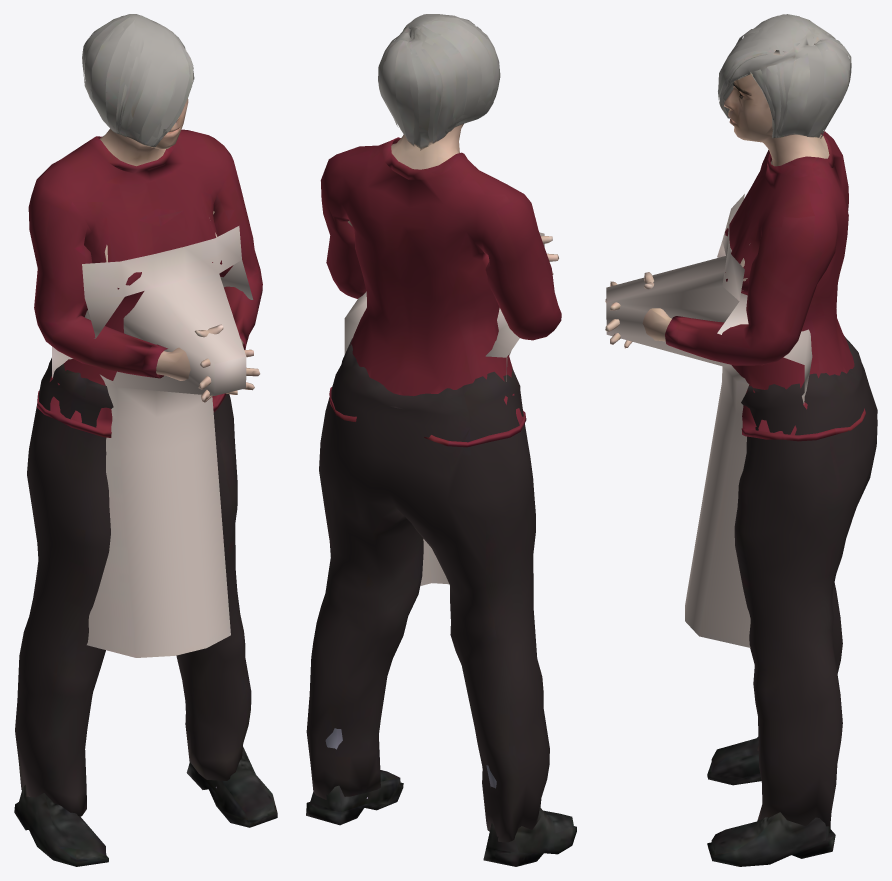
The model's file is mq-shopkeeper.glb.
3 renders of one model, left to right at view 1: azimuth 30°, elevation 25°; view 2: azimuth 150°, elevation 25°; view 3: azimuth 270°, elevation 25°, orthographic. The views are drawn at different scales.
Visible parts, largest first — view 1: MQ_shopkeeper; view 2: MQ_shopkeeper; view 3: MQ_shopkeeper.
Boxes of the visible parts, box(x1,y1,x2,y2) form: MQ_shopkeeper: box(14, 14, 277, 866); MQ_shopkeeper: box(306, 14, 576, 866); MQ_shopkeeper: box(605, 14, 877, 866).
Size of the model in its own units: 0.4521 by 1.56 by 0.4835.
1 material, 1 textured.
